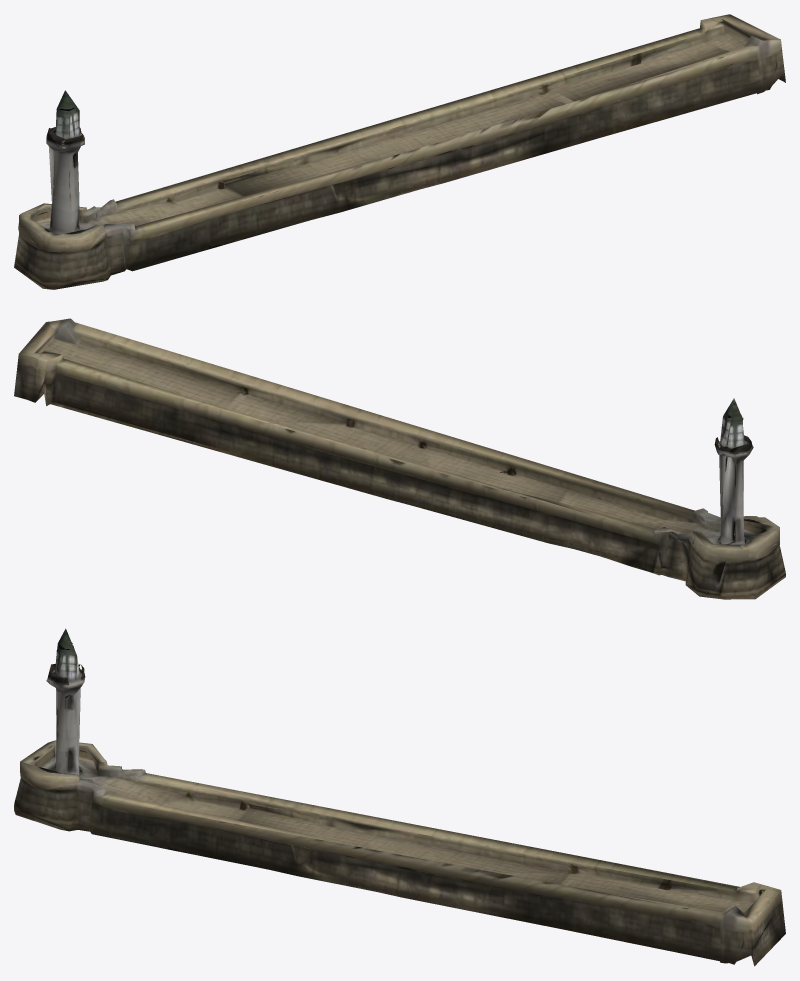
The model's file is switzerland-jet-d-eau.lod.glb.
3 views of the same model, one above another, from view 1: azimuth 30°, elevation 25°; view 2: azimuth 150°, elevation 25°; view 3: azimuth 330°, elevation 25° (orthographic).
Visible parts, largest first — view 1: world; view 2: world; view 3: world.
Part boxes in pixels (x1,y1,x2,y2): world: (14,14,785,289); world: (14,318,785,599); world: (14,628,785,966).
Size of the model in its own units: 4.28 by 0.9998 by 0.4968.
Materials: 1 (1 with a texture image).
